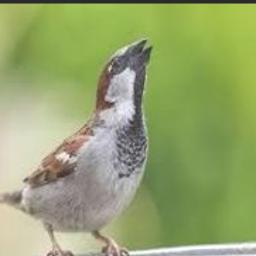Sparrow: (0, 38, 151, 256)
